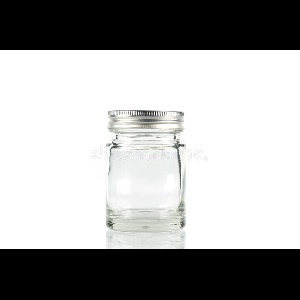emptybottle: (105, 110, 185, 236)
